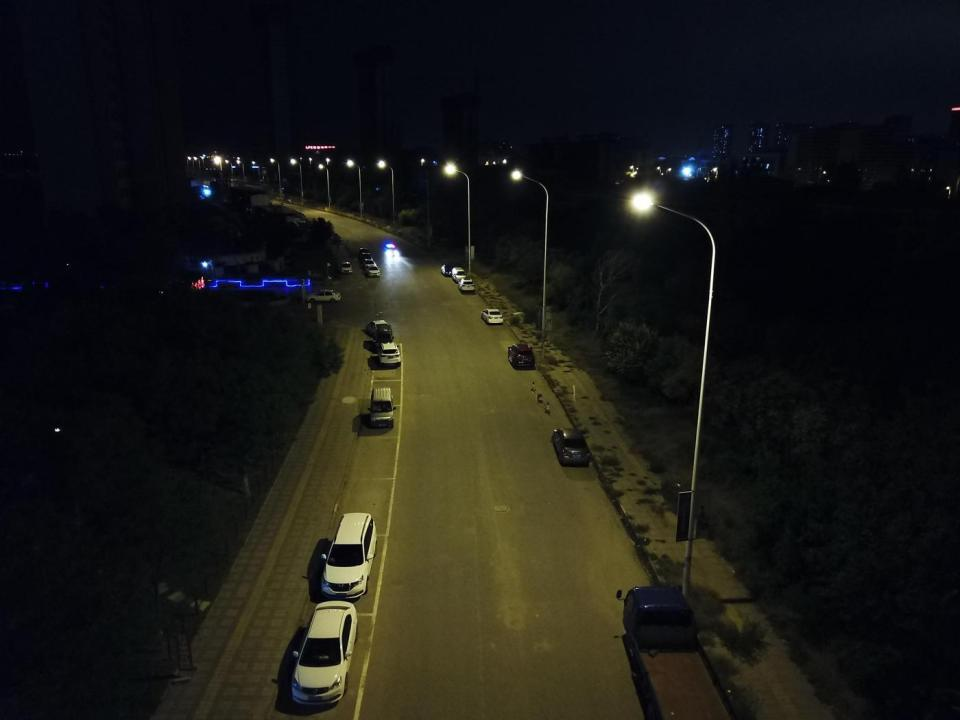car: (289, 598, 358, 707), (319, 511, 378, 601), (549, 425, 591, 468), (506, 340, 537, 371), (374, 341, 403, 368), (305, 288, 342, 304), (372, 324, 396, 348), (480, 308, 504, 326), (364, 320, 390, 336), (381, 241, 401, 258), (457, 276, 475, 294), (437, 262, 458, 277), (340, 260, 354, 276), (363, 258, 376, 269), (360, 251, 372, 262), (358, 246, 368, 256)
truck: (615, 583, 746, 720)
van: (367, 386, 397, 432), (449, 265, 467, 282)
